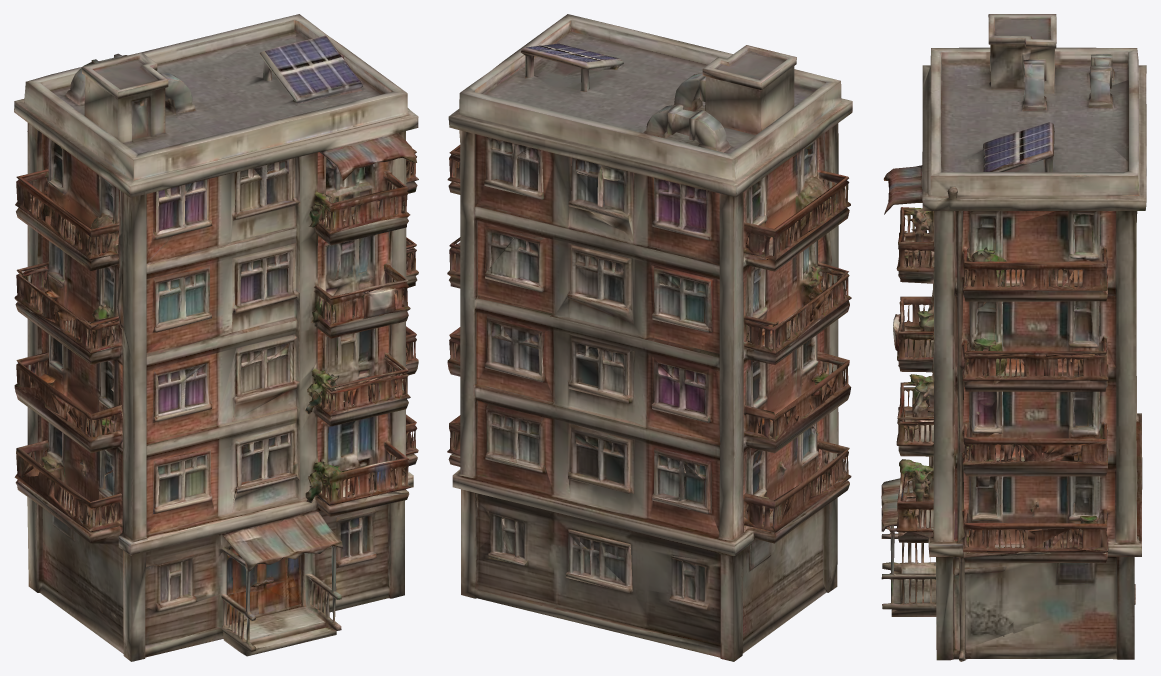
The model's file is edificio.glb.
The picture shows the model from 3 angles, left to right: view 1: azimuth 30°, elevation 25°; view 2: azimuth 150°, elevation 25°; view 3: azimuth 270°, elevation 25°; orthographic projection. The views are drawn at different scales.
Parts seen in each view (by area): view 1: Mesh_0; view 2: Mesh_0; view 3: Mesh_0.
Boxes of the visible parts, x1,y1,x2,y2 form: Mesh_0: (14, 14, 418, 661); Mesh_0: (447, 14, 852, 661); Mesh_0: (881, 14, 1146, 661).
Size of the model in its own units: 1.2 by 1.91 by 0.8756.
Materials: 1 (1 with a texture image).
